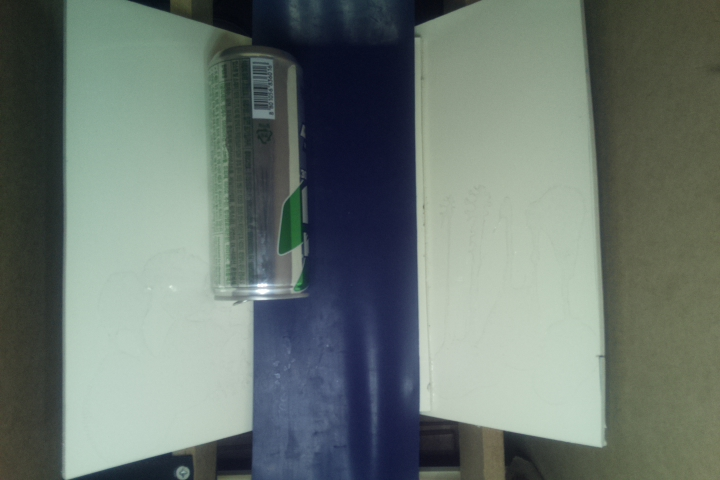can: (207, 45, 307, 305)
